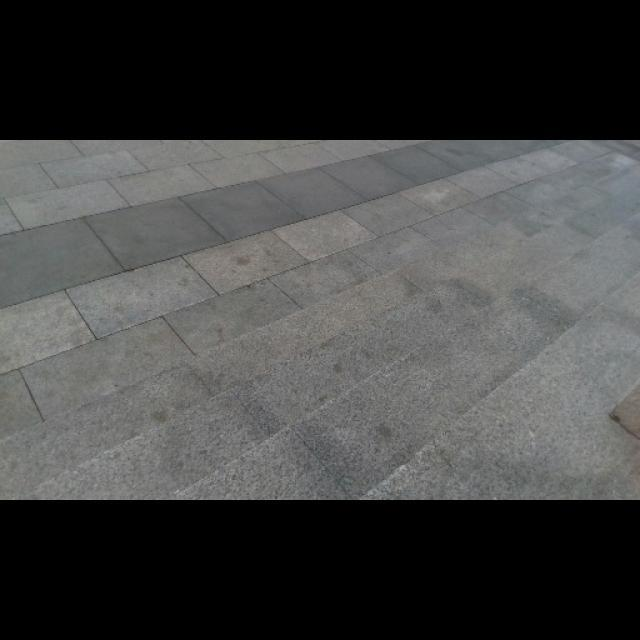stair: (129, 258, 575, 480)
